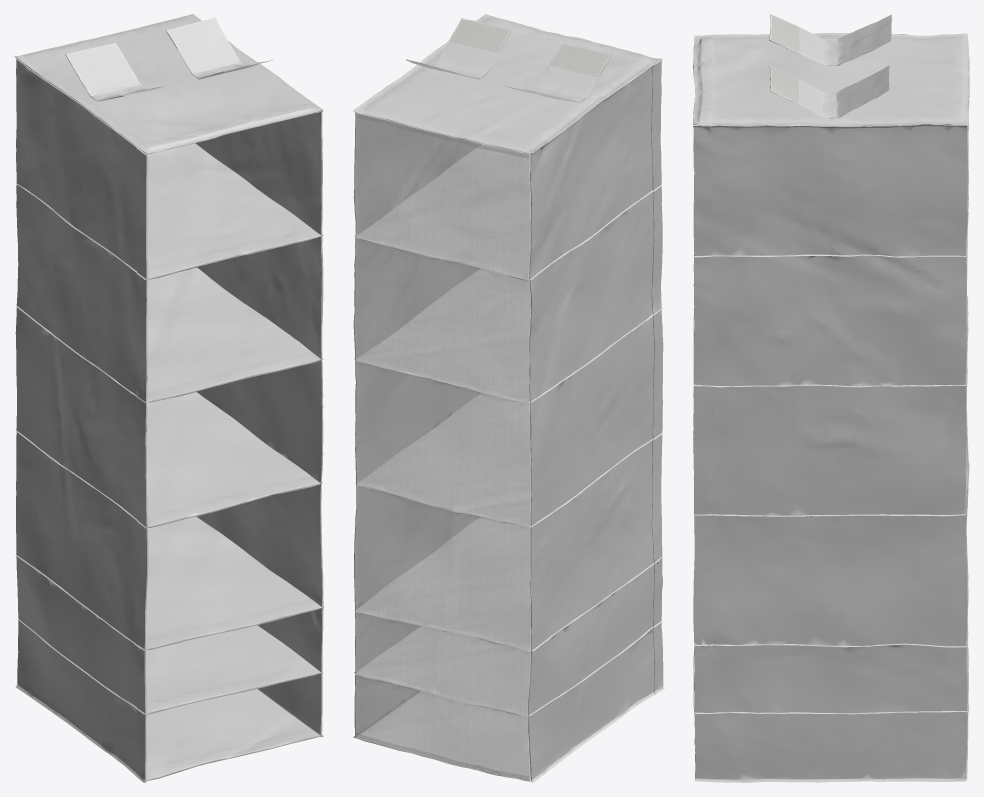
Rendered from SKUBB_40300049.glb.
The picture shows the model from 3 angles, left to right: view 1: azimuth 30°, elevation 25°; view 2: azimuth 150°, elevation 25°; view 3: azimuth 270°, elevation 25°; orthographic projection. The views are drawn at different scales.
Visible parts, largest first — view 1: Mesh_3; view 2: Mesh_3, Mesh_2, Mesh_0; view 3: Mesh_3, Mesh_2, Mesh_0.
Part boxes in pixels (left/top/right/bottom): Mesh_3: left=14, top=14, right=324, bottom=782; Mesh_3: left=353, top=14, right=664, bottom=782; Mesh_2: left=354, top=112, right=531, bottom=781; Mesh_0: left=450, top=20, right=609, bottom=77; Mesh_3: left=693, top=14, right=969, bottom=782; Mesh_2: left=965, top=43, right=969, bottom=779; Mesh_0: left=771, top=15, right=799, bottom=103.
Bounding box in the file's own units: 0.3623 × 1.28 × 0.4585.
Materials: 2 (2 with a texture image).
